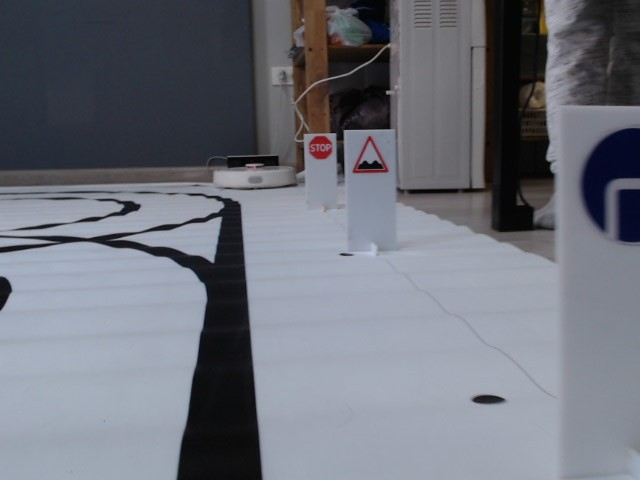Nerov: (351, 138, 390, 177)
Stop: (308, 137, 333, 159)
